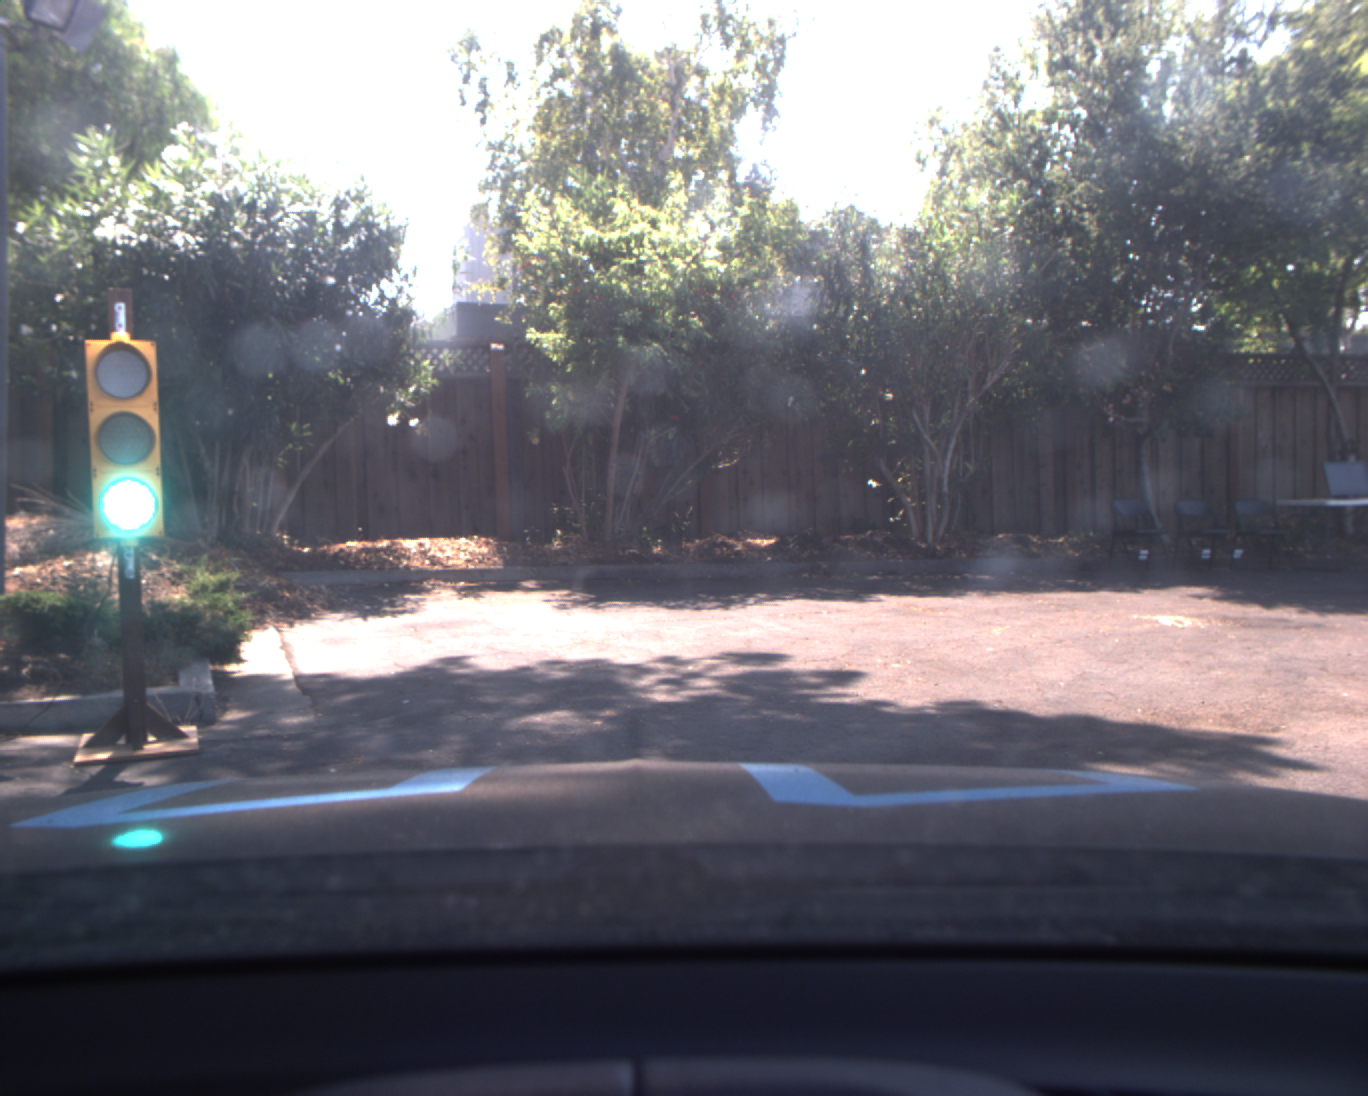green: (85, 339, 164, 541)
